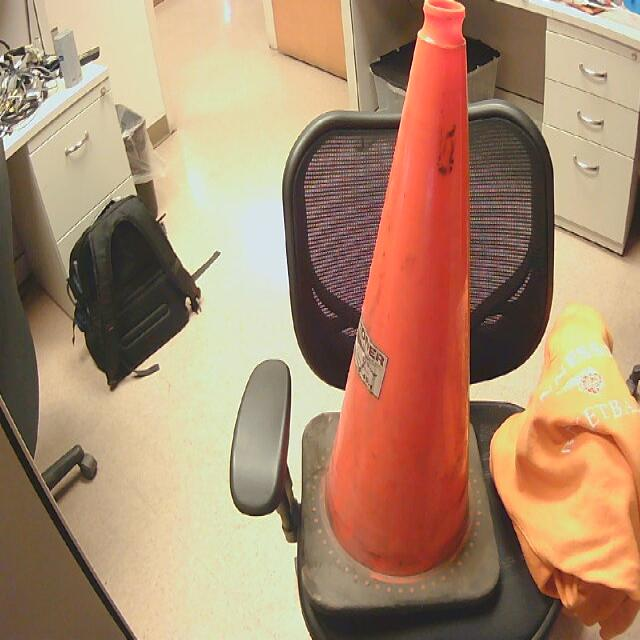traffic cone: (301, 1, 501, 610)
